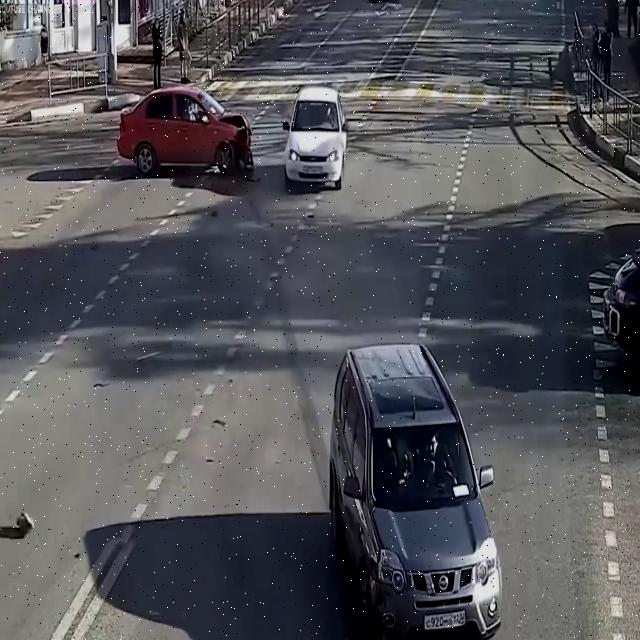accident: (290, 318, 518, 640), (112, 71, 272, 195)
